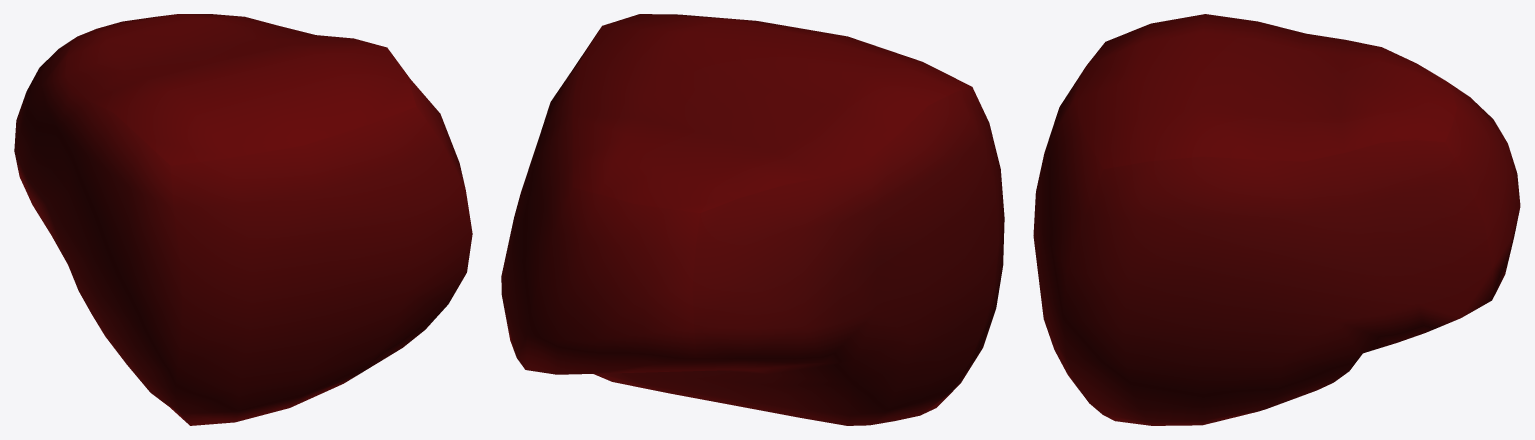
File: geology-pebbles-limestonepebble_v5.fbx
The picture shows the model from 3 angles, left to right: view 1: azimuth 30°, elevation 25°; view 2: azimuth 150°, elevation 25°; view 3: azimuth 270°, elevation 25°; orthographic projection. The views are drawn at different scales.
Visible parts, largest first — view 1: LimestonePebble_v5; view 2: LimestonePebble_v5; view 3: LimestonePebble_v5.
Part boxes in pixels (box(x1,y1,x2,y2)): LimestonePebble_v5: box(14, 14, 472, 425); LimestonePebble_v5: box(501, 14, 1004, 425); LimestonePebble_v5: box(1033, 14, 1520, 425).
Size of the model in its own units: 9.02 by 7.73 by 10.58.
